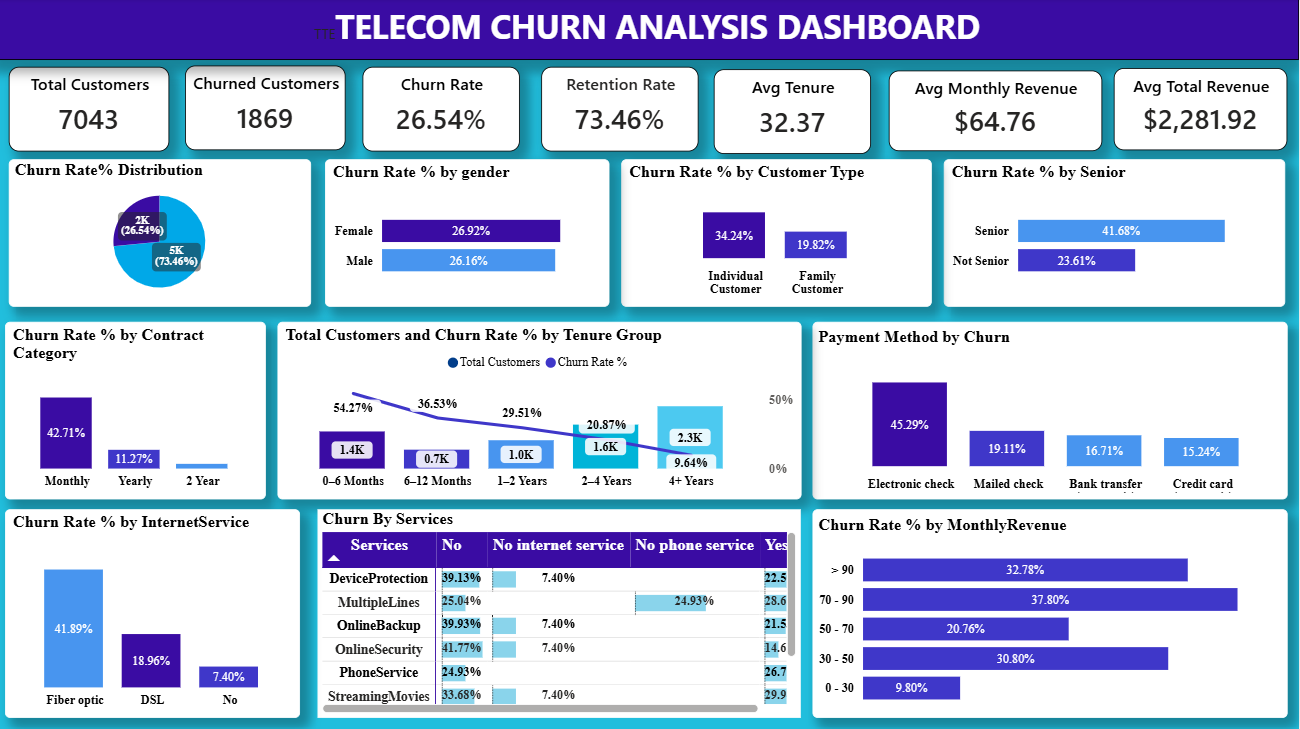

The page's visual inventory and layout, read from the dashboard file:
{"tool":"powerbi","page":{"name":"CHURN ANALYSIS","canvas":[1280,720],"ordinal":0},"visuals":[{"type":"card","title":"Total Customers","fields":{"Values":["telco_churn_cleaned.Total Customers"]},"box":[13,67.9,157.9,83.3],"z":0},{"type":"columnChart","title":"Payment Method by Churn","fields":{"Category":["telco_churn_cleaned.PaymentMethod"],"Y":["telco_churn_cleaned.Churn Rate %"]},"box":[802.2,317.4,466,174.6],"z":1000,"group":"g2"},{"type":"card","title":"Churned Customers","fields":{"Values":["telco_churn_cleaned.Total Churned"]},"box":[187,66.4,157.9,83.3],"z":2000},{"type":"textbox","box":[0,0,1280,61],"z":3000},{"type":"card","title":"Churn Rate","fields":{"Values":["telco_churn_cleaned.Churn Rate %"]},"box":[361,67.9,154.7,83.3],"z":4000},{"type":"card","title":"Retention Rate","fields":{"Values":["telco_churn_cleaned.Retention Rate %"]},"box":[536.7,67.9,154.7,83.3],"z":5000},{"type":"clusteredBarChart","fields":{"Category":["telco_churn_cleaned.Is Senior"],"Y":["telco_churn_cleaned.Churn Rate %"]},"box":[931.4,158.7,335.5,145.1],"z":7000,"group":"g1"},{"type":"columnChart","fields":{"Category":["telco_churn_cleaned.Contract Category"],"Y":["telco_churn_cleaned.Churn Rate %"]},"box":[10.1,317.4,255.8,174.1],"z":7000,"group":"g2"},{"type":"card","title":"Avg Tenure","fields":{"Values":["Avg(telco_churn_cleaned.tenure)"]},"box":[705.8,69.5,154.7,83.3],"z":8000},{"type":"lineStackedColumnComboChart","fields":{"Y2":["telco_churn_cleaned.Churn Rate %"],"Y":["telco_churn_cleaned.Total Customers"],"Category":["telco_churn_cleaned.Tenure Group"]},"box":[277.6,317.4,514.5,174.1],"z":9000,"group":"g2"},{"type":"columnChart","fields":{"Category":["telco_churn_cleaned.Customer Type"],"Y":["telco_churn_cleaned.Churn Rate %"]},"box":[614.5,158.7,305,145.1],"z":10000,"group":"g1"},{"type":"card","title":"Avg Monthly Revenue","fields":{"Values":["Avg(telco_churn_cleaned.MonthlyCharges)"]},"box":[877.2,70.7,209.2,79.4],"z":11000},{"type":"pieChart","title":"Churn Rate% Distribution","fields":{"Y":["telco_churn_cleaned.Total Customers"],"Category":["telco_churn_cleaned.ChurnFlag"]},"box":[13,158.7,296.5,145.1],"z":12000,"group":"g1"},{"type":"pivotTable","title":"Churn By Services","fields":{"Rows":["telco_churn_cleaned.Services"],"Columns":["telco_churn_cleaned.StatusOfServices"],"Values":["telco_churn_cleaned.Churn Rate %"]},"box":[317.4,502,474.7,204.9],"z":12000,"group":"g3"},{"type":"barChart","fields":{"Category":["telco_churn_cleaned.gender"],"Y":["telco_churn_cleaned.Churn Rate %"]},"box":[323.1,158.7,279.6,145.1],"z":13000,"group":"g1"},{"type":"card","title":"Avg Total Revenue","fields":{"Values":["Avg(telco_churn_cleaned.TotalCharges)"]},"box":[1097.9,69.3,170.2,80.8],"z":14000},{"type":"columnChart","fields":{"Category":["telco_churn_cleaned.InternetService"],"Y":["telco_churn_cleaned.Churn Rate %"]},"box":[10.1,502,290,204.9],"z":14000,"group":"g3"},{"type":"clusteredBarChart","title":"Churn Rate % by MonthlyRevenue","fields":{"Category":["telco_churn_cleaned.MonthlyRevenue"],"Y":["telco_churn_cleaned.Churn Rate %"]},"box":[802.5,501.8,466.3,204.9],"z":14001,"group":"g3"},{"type":"group","id":"g1","title":"Group 1","box":[13,158.7,1253.8,145.1],"z":14002},{"type":"group","id":"g2","title":"Group 2","box":[10.1,317.4,1258.1,174.6],"z":14003},{"type":"group","id":"g3","title":"Group 3","box":[10.1,501.8,1258.6,205.1],"z":14004}]}

Visuals, with their boxes in screenshot pixels (x1, y1, x2, y2), scaled from the page's 1280x720 canvas onto the 1300x729 screenshot:
"Total Customers" card: 13,69,174,153
"Payment Method by Churn" columnChart: 815,321,1288,498
"Churned Customers" card: 190,67,350,152
textbox: 0,0,1299,62
"Churn Rate" card: 367,69,524,153
"Retention Rate" card: 545,69,702,153
clusteredBarChart - telco_churn_cleaned.Is Senior x telco_churn_cleaned.Churn Rate %: 946,161,1287,308
columnChart - telco_churn_cleaned.Contract Category x telco_churn_cleaned.Churn Rate %: 10,321,270,498
"Avg Tenure" card: 717,70,874,155
lineStackedColumnComboChart - telco_churn_cleaned.Churn Rate % x telco_churn_cleaned.Total Customers: 282,321,804,498
columnChart - telco_churn_cleaned.Customer Type x telco_churn_cleaned.Churn Rate %: 624,161,934,308
"Avg Monthly Revenue" card: 891,72,1103,152
"Churn Rate% Distribution" pieChart: 13,161,314,308
"Churn By Services" pivotTable: 322,508,804,716
barChart - telco_churn_cleaned.gender x telco_churn_cleaned.Churn Rate %: 328,161,612,308
"Avg Total Revenue" card: 1115,70,1288,152
columnChart - telco_churn_cleaned.InternetService x telco_churn_cleaned.Churn Rate %: 10,508,305,716
"Churn Rate % by MonthlyRevenue" clusteredBarChart: 815,508,1289,716
"Group 1" group: 13,161,1287,308
"Group 2" group: 10,321,1288,498
"Group 3" group: 10,508,1289,716
